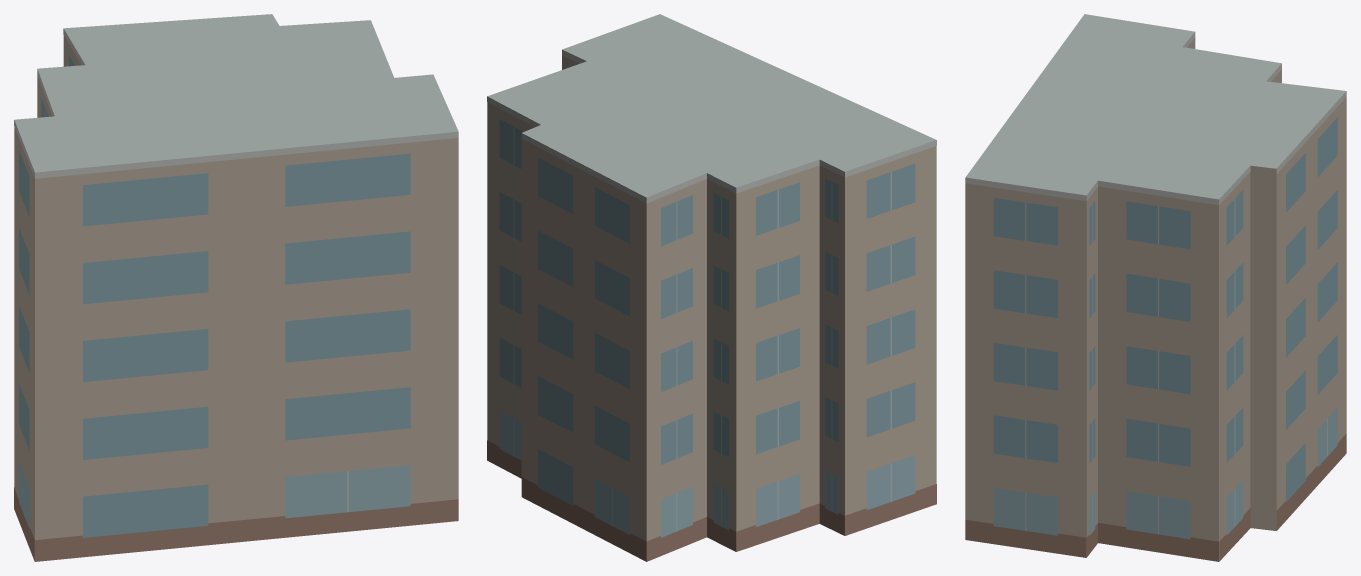
Rendered from survey-upis-32595428.glb.
3 views of the same model, side by side, from view 1: azimuth 30°, elevation 25°; view 2: azimuth 150°, elevation 25°; view 3: azimuth 270°, elevation 25° (orthographic). The views are drawn at different scales.
Visible parts, largest first — view 1: survey-upis-32595428.tmp; view 2: survey-upis-32595428.tmp; view 3: survey-upis-32595428.tmp.
Part boxes in pixels (x1,y1,x2,y2): survey-upis-32595428.tmp: (14,14,458,561); survey-upis-32595428.tmp: (487,14,936,561); survey-upis-32595428.tmp: (965,14,1346,561).
Size of the model in its own units: 16.8 by 15.3 by 14.6.
